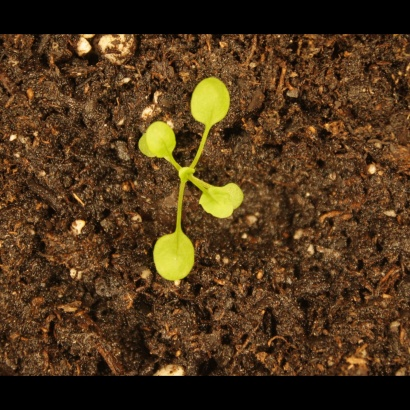leaf: (150, 229, 198, 285), (187, 74, 234, 130), (146, 118, 179, 161), (198, 189, 237, 222), (218, 181, 248, 212), (132, 132, 160, 160)
